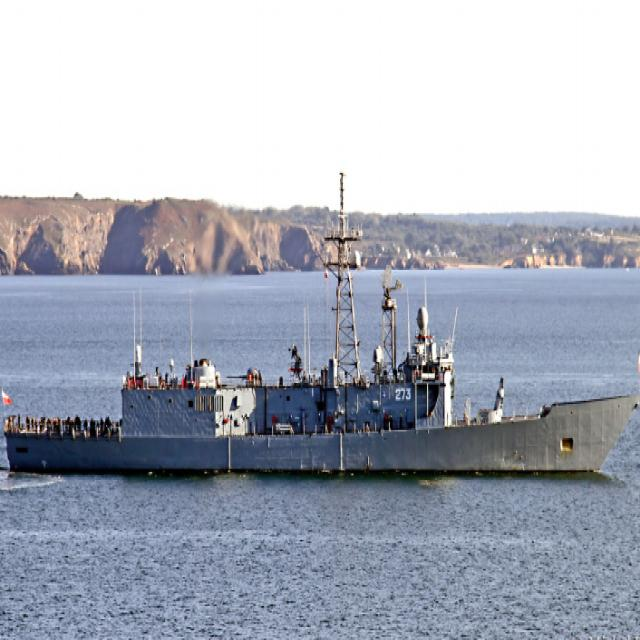Fragata: (1, 169, 640, 494)
